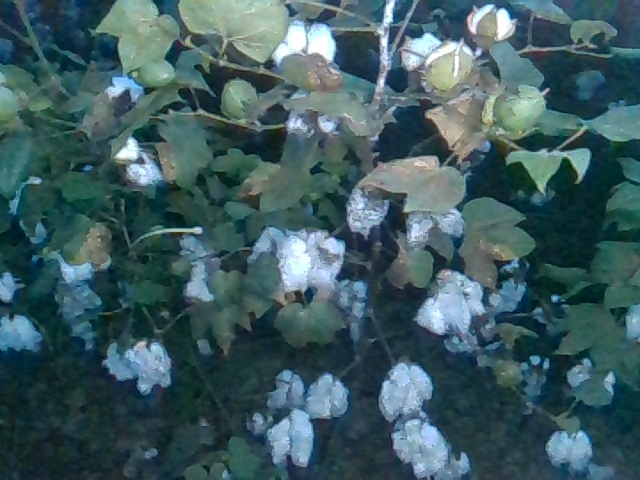cotton: (388, 417, 474, 478), (410, 268, 486, 336), (248, 225, 310, 301), (100, 336, 176, 397), (263, 20, 340, 77), (39, 227, 117, 283), (282, 86, 355, 144), (375, 355, 439, 418), (402, 188, 466, 246), (3, 173, 52, 248), (173, 228, 219, 304), (265, 405, 318, 468), (346, 168, 393, 237), (140, 194, 186, 262), (564, 360, 624, 408), (544, 427, 598, 475), (461, 3, 522, 42), (515, 349, 551, 413), (428, 38, 472, 89), (94, 72, 148, 113), (1, 310, 47, 356), (260, 371, 307, 413), (306, 373, 350, 417), (124, 150, 165, 189), (402, 32, 444, 68), (568, 64, 605, 101), (106, 132, 148, 164), (1, 271, 29, 305), (622, 304, 640, 345), (196, 333, 213, 360)
